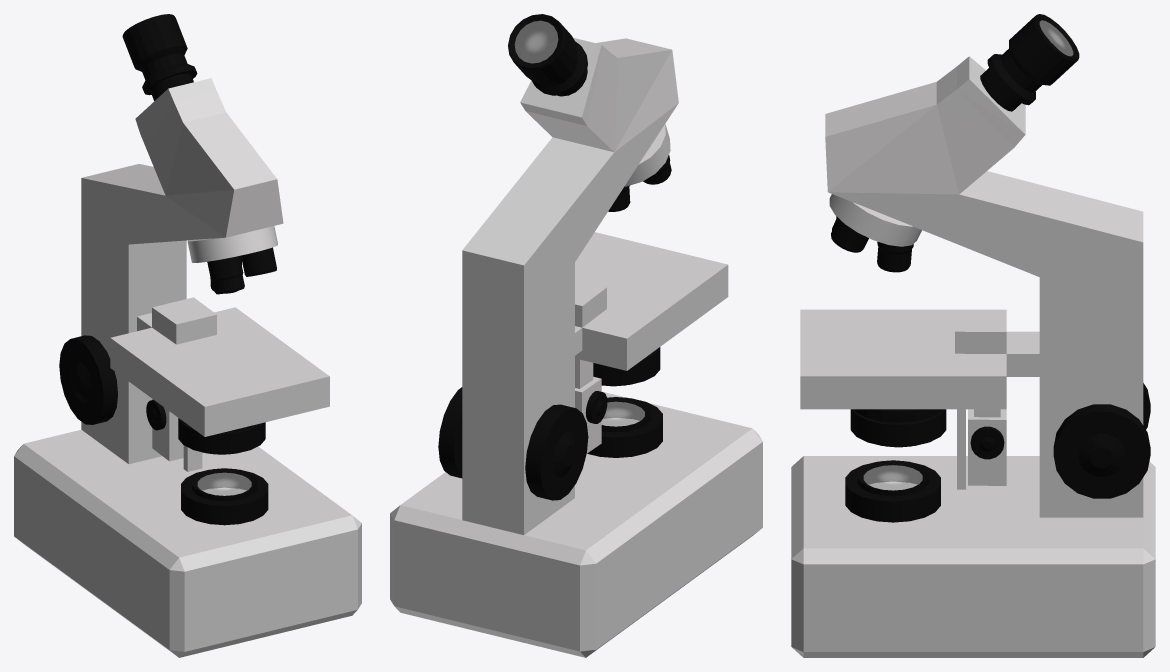
The model's file is microscope.FBX.
The picture shows the model from 3 angles, left to right: view 1: azimuth 30°, elevation 25°; view 2: azimuth 150°, elevation 25°; view 3: azimuth 270°, elevation 25°; orthographic projection. The views are drawn at different scales.
Visible parts, largest first — view 1: Box002, Box003, Cylinder007, Cylinder006, Cylinder005, Cylinder001, Cylinder008, Cylinder003, Cylinder002; view 2: Box002, Box003, Cylinder006, Cylinder005, Cylinder007, Cylinder009, Cylinder008, Cylinder001, Cylinder011; view 3: Box002, Box003, Cylinder009, Cylinder005, Cylinder007, Cylinder008, Cylinder001, Cylinder012, Cylinder004, Cylinder002.
Part boxes in pixels (bbox=[...]): Box002: bbox=[14, 78, 361, 657]; Box003: bbox=[110, 297, 329, 471]; Cylinder007: bbox=[181, 468, 268, 525]; Cylinder006: bbox=[59, 335, 117, 424]; Cylinder005: bbox=[122, 14, 197, 100]; Cylinder001: bbox=[187, 226, 277, 262]; Cylinder008: bbox=[178, 418, 265, 454]; Cylinder003: bbox=[207, 256, 244, 294]; Cylinder002: bbox=[241, 247, 276, 276]; Box002: bbox=[390, 37, 762, 657]; Box003: bbox=[575, 232, 728, 453]; Cylinder006: bbox=[525, 404, 588, 500]; Cylinder005: bbox=[508, 14, 587, 96]; Cylinder007: bbox=[587, 397, 662, 457]; Cylinder009: bbox=[438, 387, 462, 478]; Cylinder008: bbox=[593, 347, 660, 386]; Cylinder001: bbox=[624, 124, 670, 186]; Cylinder011: bbox=[585, 391, 607, 423]; Box002: bbox=[791, 56, 1155, 657]; Box003: bbox=[800, 309, 1039, 489]; Cylinder009: bbox=[1053, 404, 1150, 498]; Cylinder005: bbox=[980, 14, 1079, 111]; Cylinder007: bbox=[845, 460, 940, 522]; Cylinder008: bbox=[850, 409, 946, 447]; Cylinder001: bbox=[829, 194, 921, 246]; Cylinder012: bbox=[970, 426, 1004, 459]; Cylinder004: bbox=[877, 241, 913, 272]; Cylinder002: bbox=[831, 218, 868, 252].
Size of the model in its own units: 20 by 53.94 by 30.
Materials: 3 (3 with a texture image).
